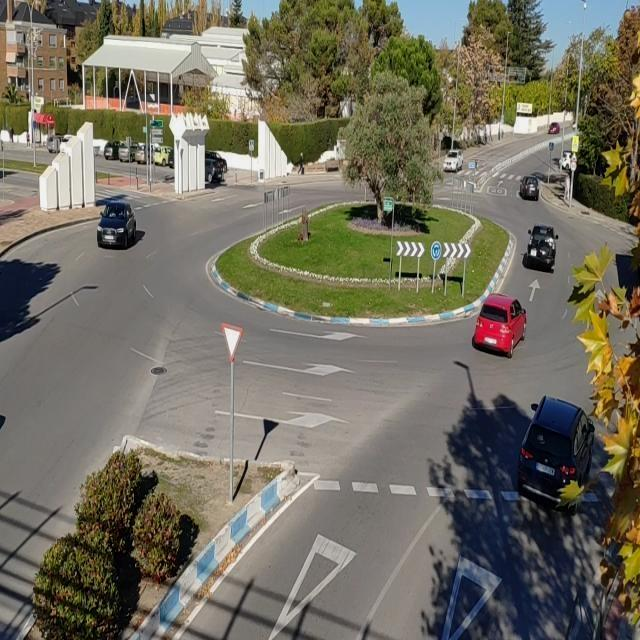Car: (518, 386, 598, 502), (468, 289, 530, 353), (92, 196, 136, 253), (522, 219, 561, 277), (200, 154, 232, 188), (517, 168, 543, 203), (439, 151, 464, 175), (541, 113, 561, 139)
